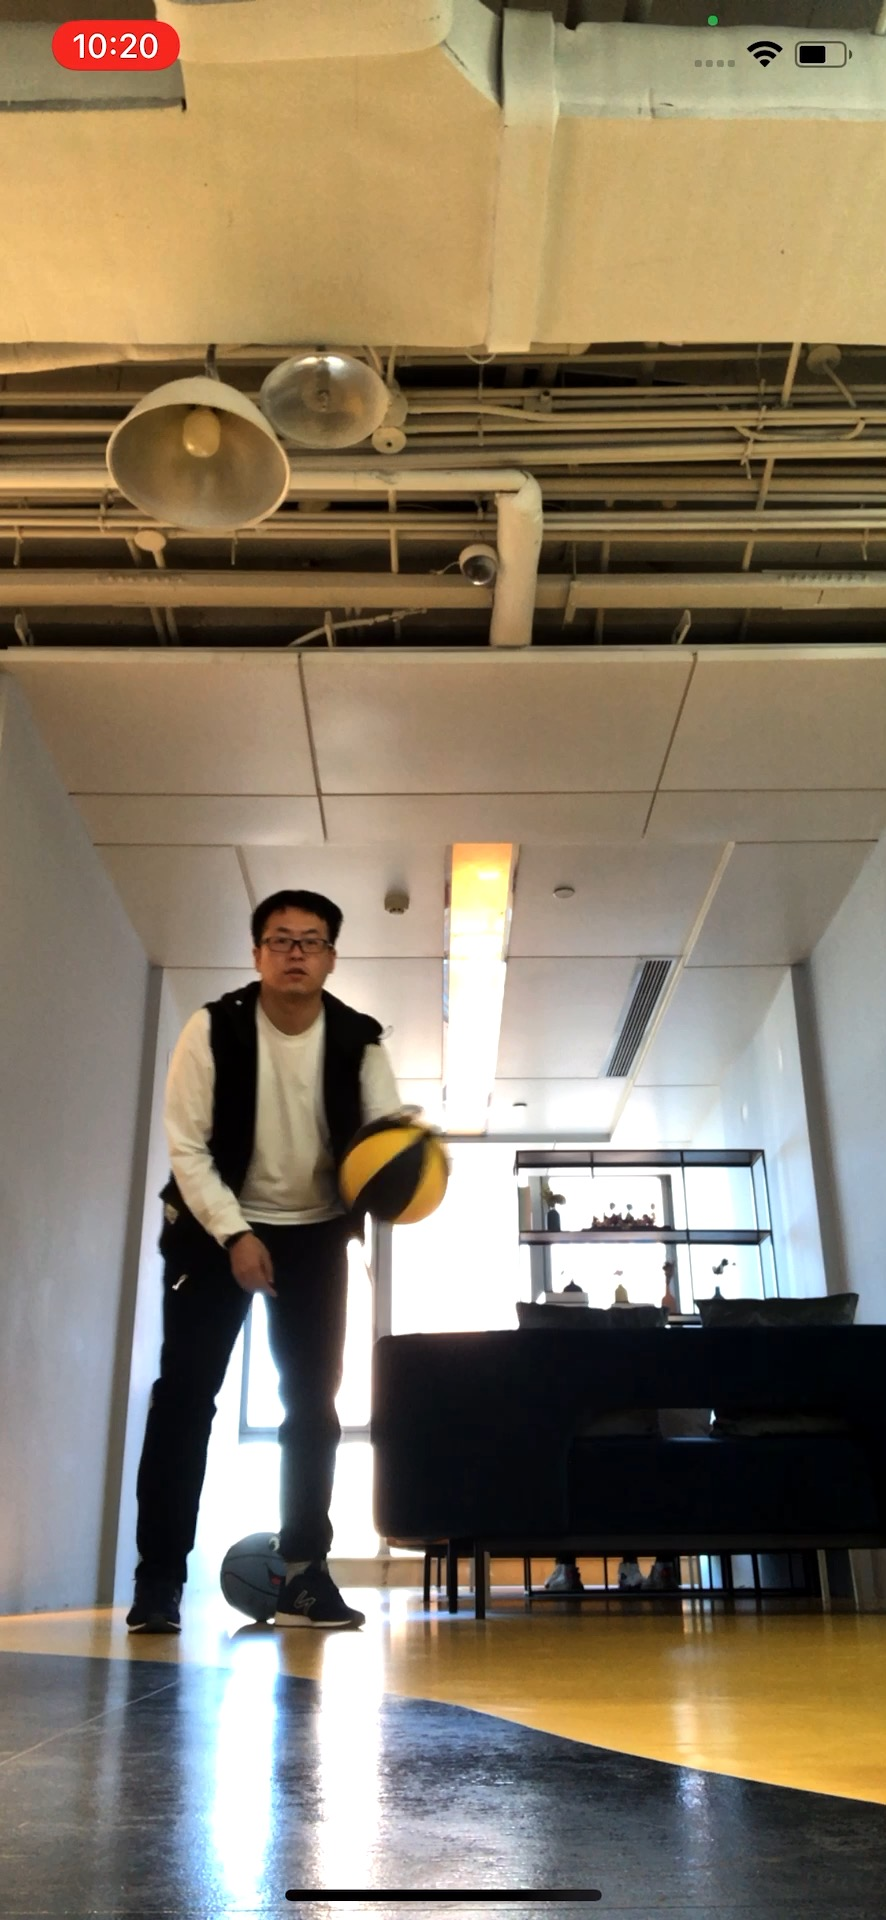ball: (341, 1123, 449, 1227), (223, 1527, 296, 1610)
